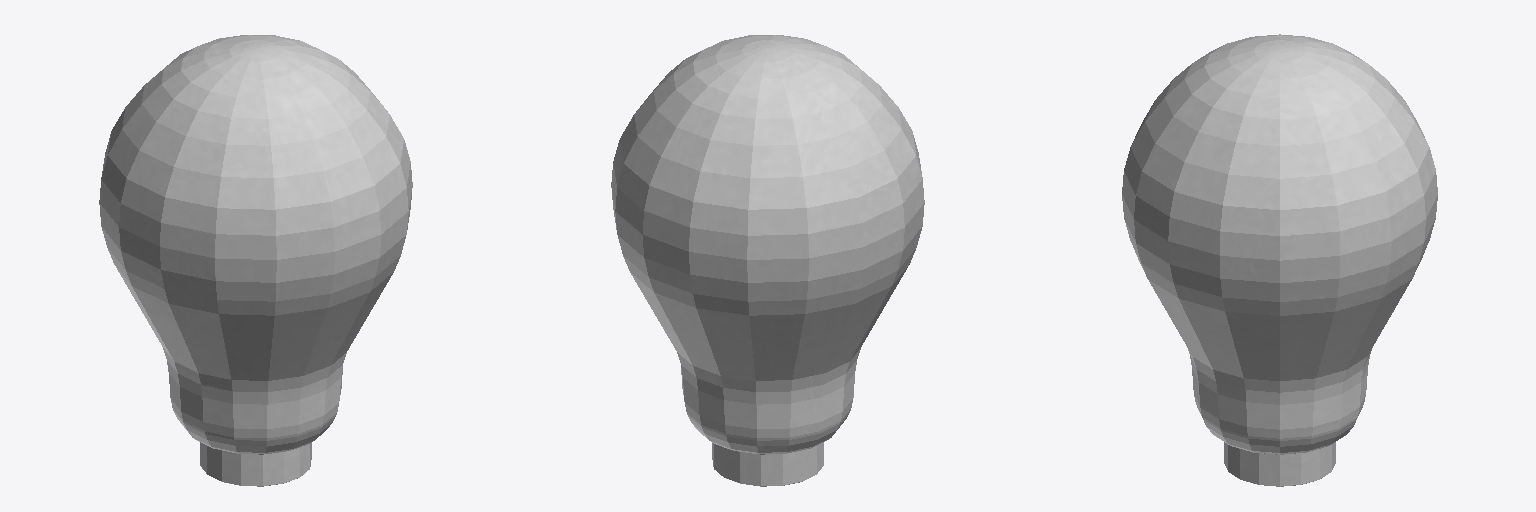
3 views of the same model, side by side, from view 1: azimuth 30°, elevation 25°; view 2: azimuth 150°, elevation 25°; view 3: azimuth 270°, elevation 25° (orthographic).
Parts seen in each view (by area): view 1: uploads_files_210383_Ampoule; view 2: uploads_files_210383_Ampoule; view 3: uploads_files_210383_Ampoule.
Part boxes in pixels (bbox=[...]): uploads_files_210383_Ampoule: bbox=[99, 35, 412, 486]; uploads_files_210383_Ampoule: bbox=[611, 35, 924, 486]; uploads_files_210383_Ampoule: bbox=[1122, 34, 1437, 486].
Size of the model in its own units: 0.0269 by 0.0389 by 0.0269.
1 materials, 1 textured.